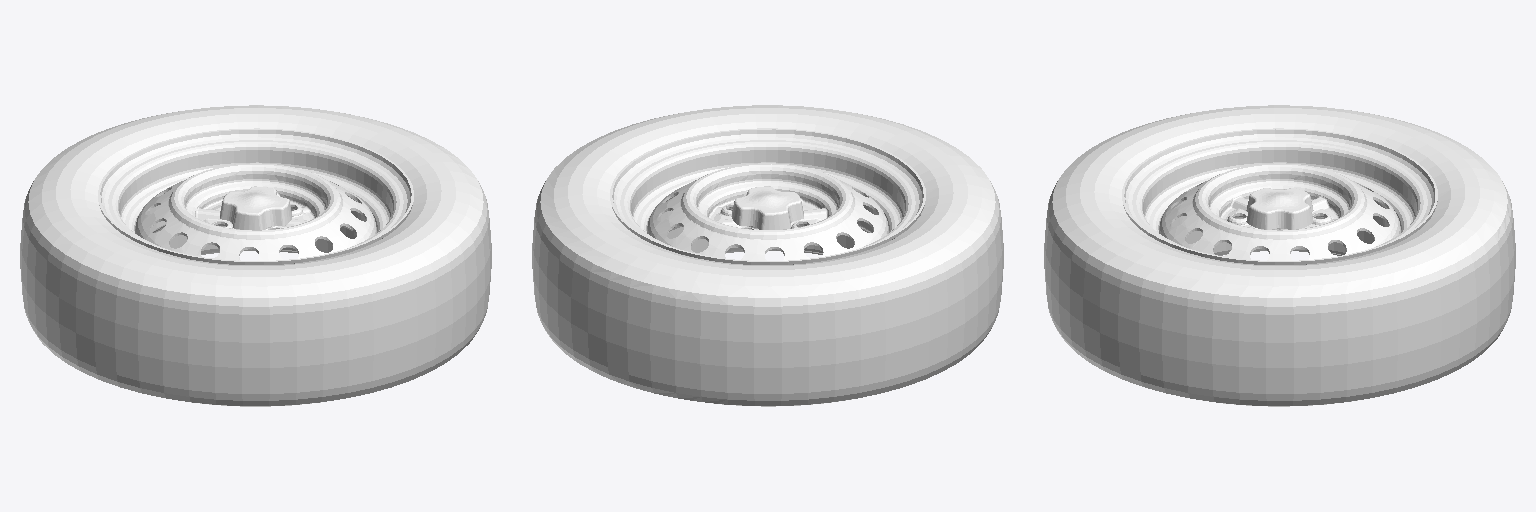
robot.urdf — demo:
<?xml version="1.0" ?>
<robot name="demo">
  <!-- ======================================================== -->
  <!-- link -->
  <!-- ======================================================== -->
  <link name="base_link"/>
  <link name="demo_link">
    <inertial>
      <origin rpy="0.000000 0.000000 0.000000" xyz="0.000000 0.000000 0.002689"/>
      <mass value="9.815083"/>
      <inertia 
        ixx=" 0.337668" 
        iyy=" 0.337668" 
        izz=" 0.612925" 
        ixy=" 0.000000" 
        ixz=" 0.000000"  
        iyz=" 0.000000"/>
    </inertial>
    <visual>
      <origin rpy="0.000000 0.000000 0.000000" xyz="0.000000 0.000000 0.000000"/>
      <geometry>
        <mesh filename="package://urdf_demo/meshes/demo_link.STL"/>
      </geometry>
      <material name="">
        <color rgba="1 1 1 1"/>
      </material>
    </visual>
  </link>
  <!-- ======================================================== -->
  <!-- joint -->
  <!-- ======================================================== -->
  <joint name="my_joint" type="continuous">
    <origin xyz="0 0 0" rpy="0 0 0"/>
    <parent link="base_link"/>
    <child link="demo_link"/>
    <axis xyz="0 0 1" />
  </joint>
</robot>

--- Render facts (derived) ---
Views: 3 orthographic renders of the robot side by side, from view 1: azimuth 30°, elevation 25°; view 2: azimuth 150°, elevation 25°; view 3: azimuth 270°, elevation 25°.
Model demo with 2 links and 1 joints (1 continuous), rooted at base_link, posed every joint at zero.
Links seen in each view (by area): view 1: demo_link; view 2: demo_link; view 3: demo_link.
Link boxes in pixels (x1=…): demo_link: x1=20, y1=105, x2=491, y2=406; demo_link: x1=532, y1=105, x2=1003, y2=406; demo_link: x1=1044, y1=105, x2=1515, y2=406.
Bounding box of the posed robot: 0.5815 × 0.5825 × 0.1747 m (x, y, z).
1 mesh visuals loaded from 1 distinct referenced files (1 binary STL).